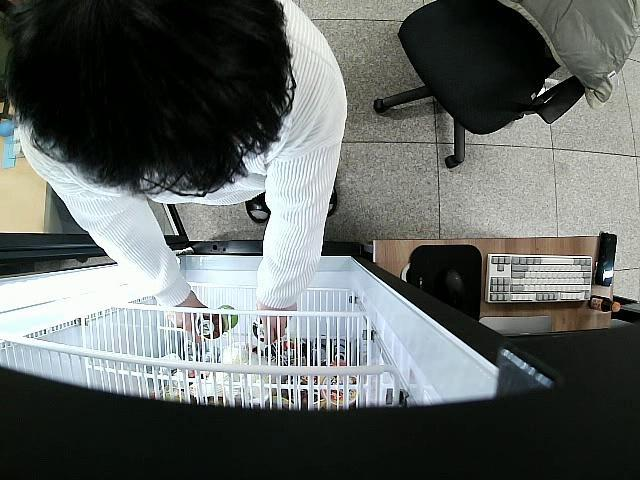19_17cha: (200, 304, 237, 339), (254, 316, 278, 344)
